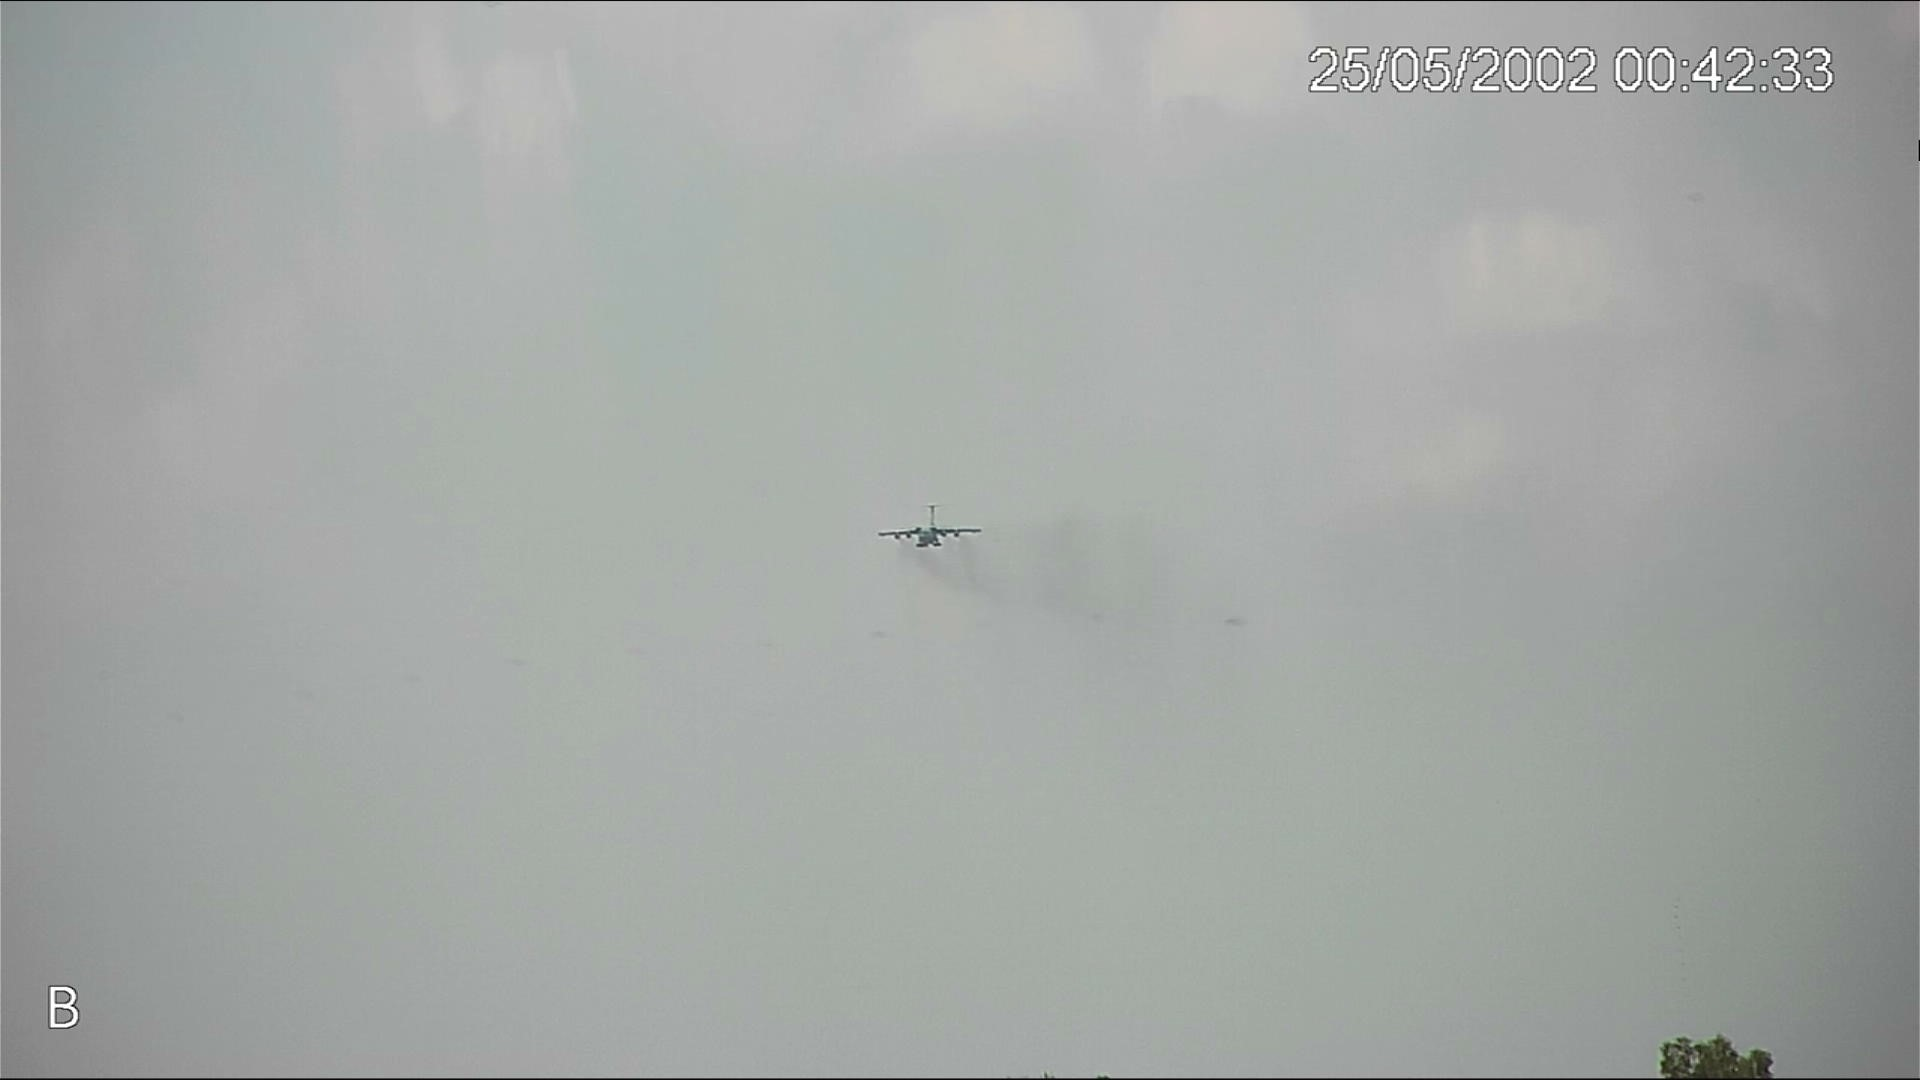SU_30: (877, 498, 985, 553)
